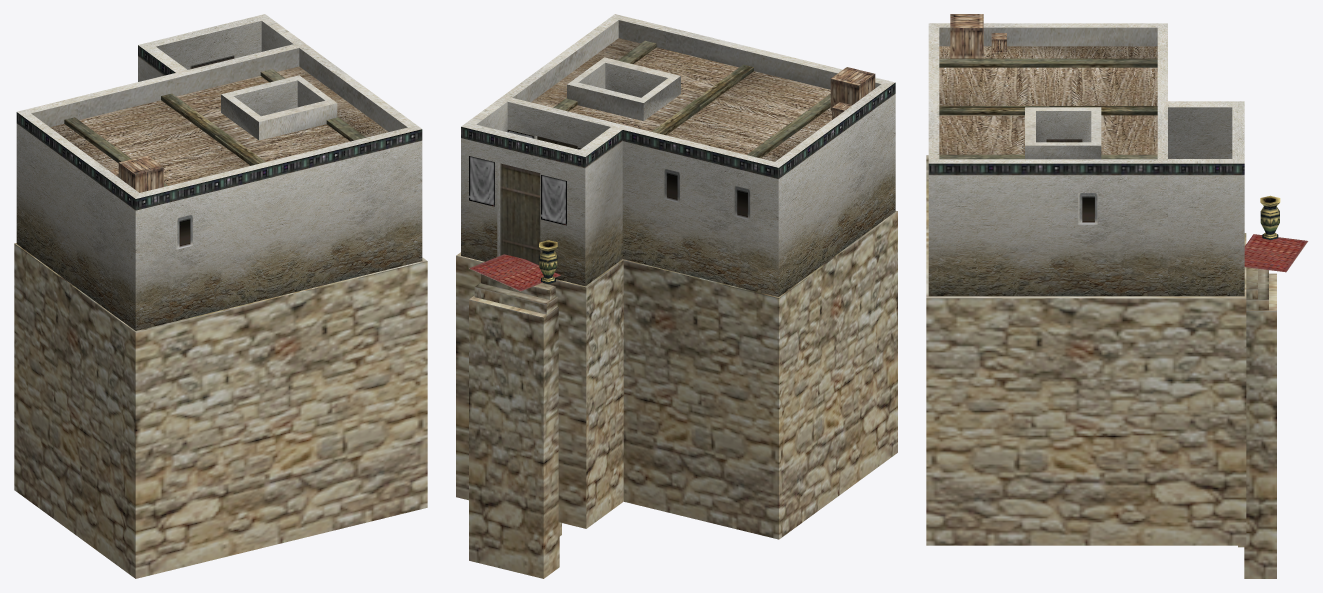
The model's file is cart_house.glb.
3 renders of one model, left to right at view 1: azimuth 30°, elevation 25°; view 2: azimuth 150°, elevation 25°; view 3: azimuth 270°, elevation 25°, orthographic. The views are drawn at different scales.
Visible parts, largest first — view 1: cart_house_part0, cart_house_part1; view 2: cart_house_part0, cart_house_part1; view 3: cart_house_part0, cart_house_part1.
Part boxes in pixels (x1=…): cart_house_part0: x1=14, y1=14, x2=427, y2=578; cart_house_part1: x1=109, y1=155, x2=192, y2=249; cart_house_part0: x1=456, y1=14, x2=897, y2=578; cart_house_part1: x1=469, y1=67, x2=875, y2=291; cart_house_part0: x1=926, y1=23, x2=1276, y2=578; cart_house_part1: x1=950, y1=14, x2=1308, y2=272.
Bounding box in the file's own units: 2.12 × 3.06 × 2.4.
Materials: 1 (1 with a texture image).
